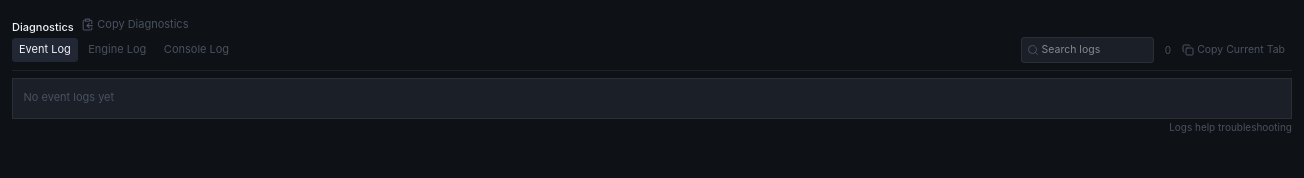
Test case: DiagnosticsModal 组件 › 引擎日志按 level= 字段行级高亮（v1.2：ERROR→error / WARN→warn / INFO→normal）
The image size is (1304, 178).
Click the button with class "diag-tab" showing "Engine Log".
click(117, 50)  # box [81,38,153,62]
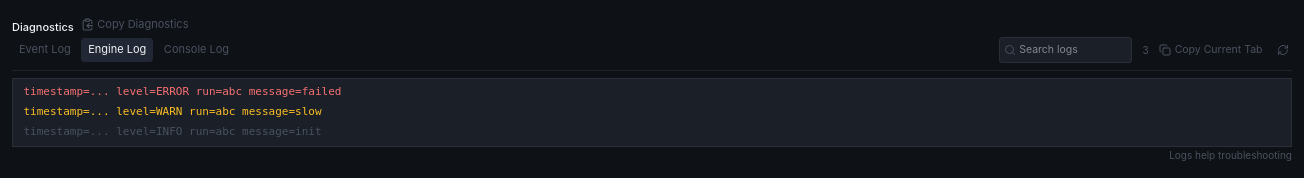
Now the number of elements with class "diag-log-line--error" is 1, box [24,85,341,98]
Now the number of elements with class "diag-log-line--warn" is 1, box [24,105,322,118]
Now the number of elements with class "diag-log-line--normal" is 1, box [24,125,322,138]
